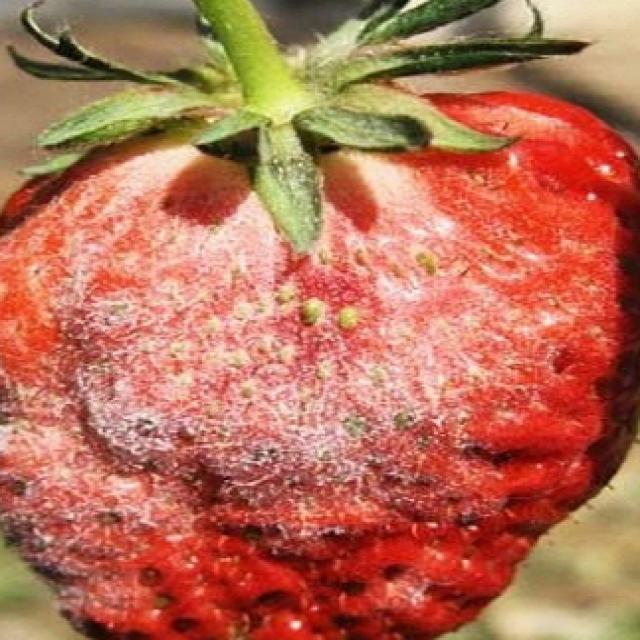Powdery Mildew Fruit: (0, 80, 640, 640)
